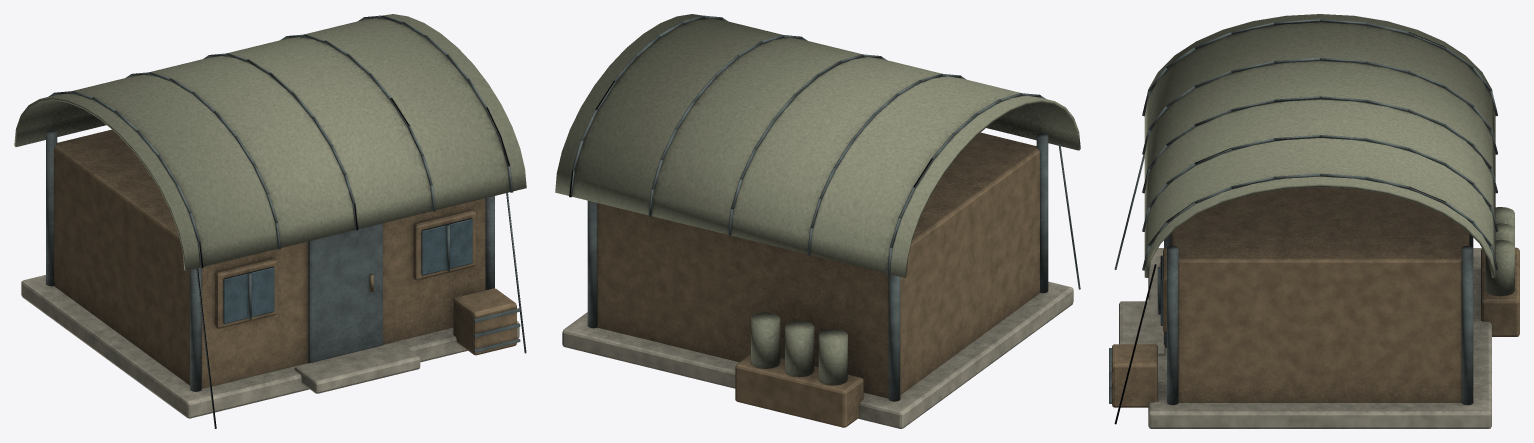
File: Barracks.fbx
The picture shows the model from 3 angles, left to right: view 1: azimuth 30°, elevation 25°; view 2: azimuth 150°, elevation 25°; view 3: azimuth 270°, elevation 25°; orthographic projection. The views are drawn at different scales.
Visible parts, largest first — view 1: Barracks; view 2: Barracks; view 3: Barracks.
Part boxes in pixels (x1,y1,x2,y2): Barracks: [14, 14, 526, 428]; Barracks: [555, 14, 1080, 428]; Barracks: [1109, 14, 1519, 428].
Size of the model in its own units: 3.3 by 2.27 by 3.37.
1 material, 1 textured.
